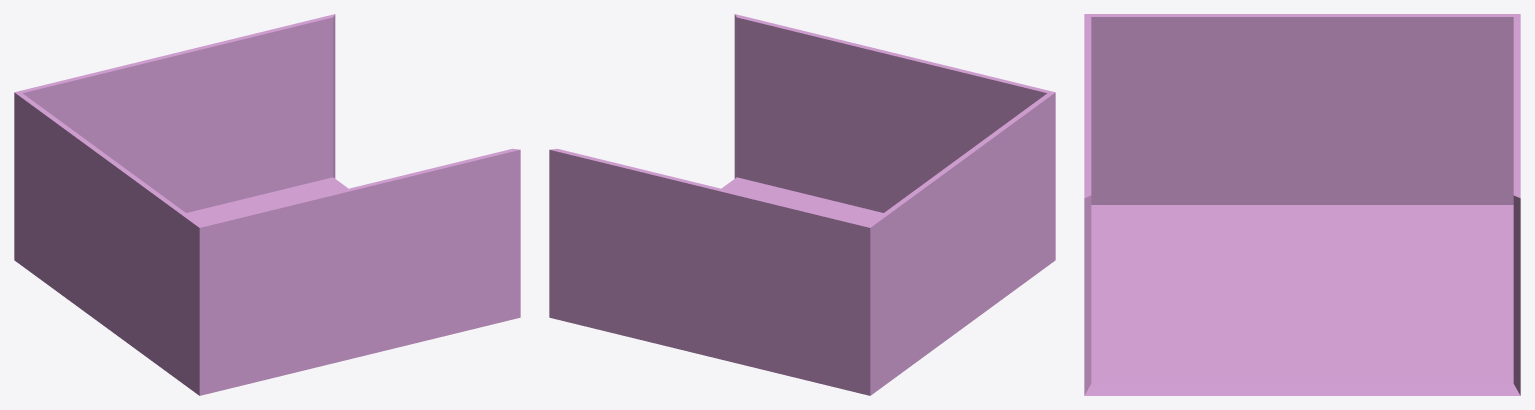
Rendered from room.gltf.
The picture shows the model from 3 angles, left to right: view 1: azimuth 30°, elevation 25°; view 2: azimuth 150°, elevation 25°; view 3: azimuth 270°, elevation 25°; orthographic projection. The views are drawn at different scales.
Parts seen in each view (by area): view 1: Raum 10x10x3; view 2: Raum 10x10x3; view 3: Raum 10x10x3.
Boxes of the visible parts, x1=… form: Raum 10x10x3: x1=14, y1=14, x2=520, y2=395; Raum 10x10x3: x1=549, y1=14, x2=1055, y2=395; Raum 10x10x3: x1=1084, y1=14, x2=1520, y2=395.
Size of the model in its own units: 20 by 10 by 20.
